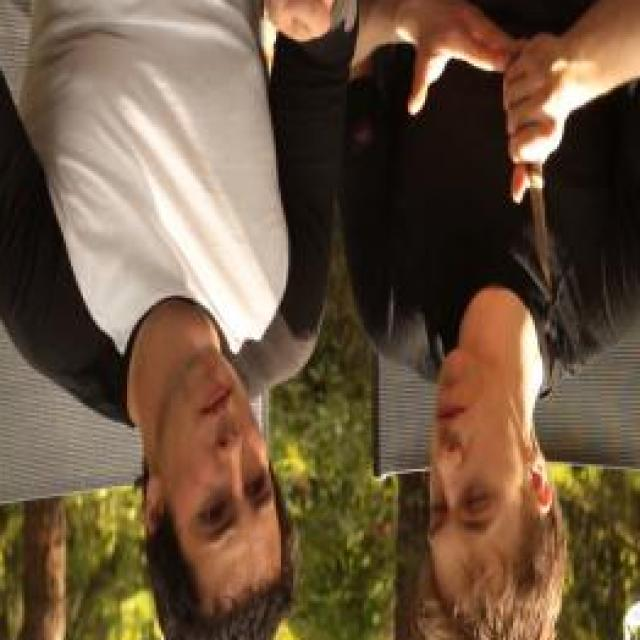knife: (497, 87, 567, 310)
